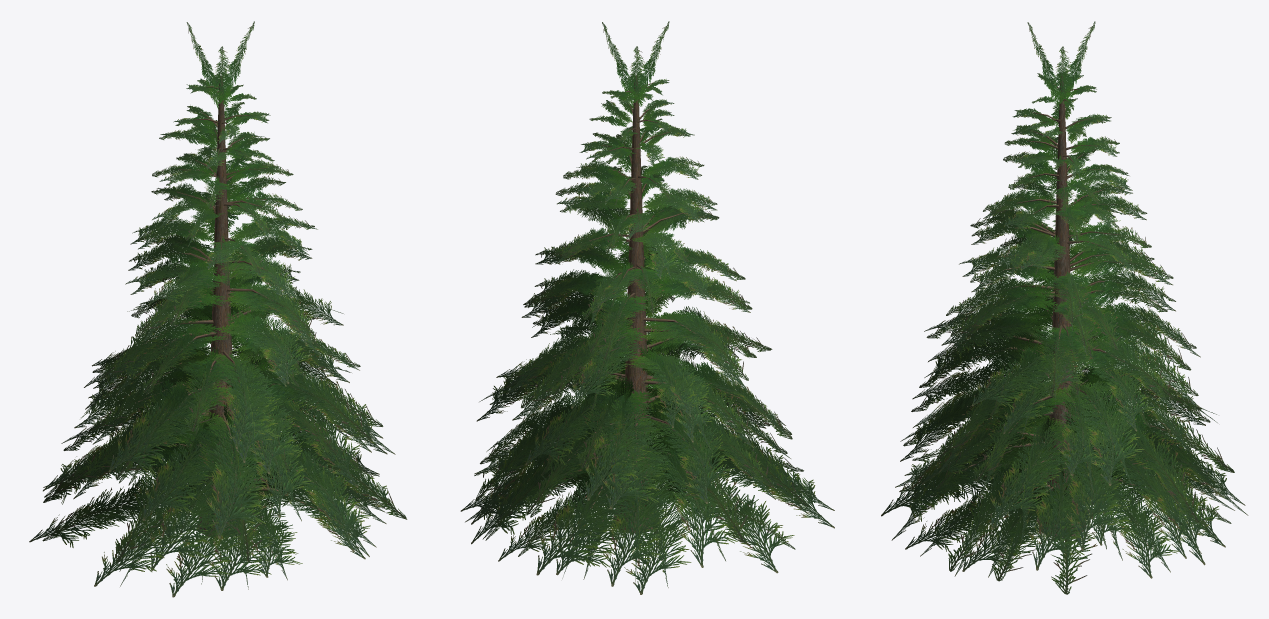
File: tree_spruce.glb
The picture shows the model from 3 angles, left to right: view 1: azimuth 30°, elevation 25°; view 2: azimuth 150°, elevation 25°; view 3: azimuth 270°, elevation 25°; orthographic projection.
Visible parts, largest first — view 1: plant; view 2: plant; view 3: plant.
Boxes of the visible parts, x1,y1,x2,y2 form: plant: (29,21,407,597); plant: (460,21,834,594); plant: (881,21,1248,594).
Bounding box in the file's own units: 4.79 × 6.64 × 4.68.
2 materials, 2 textured.
